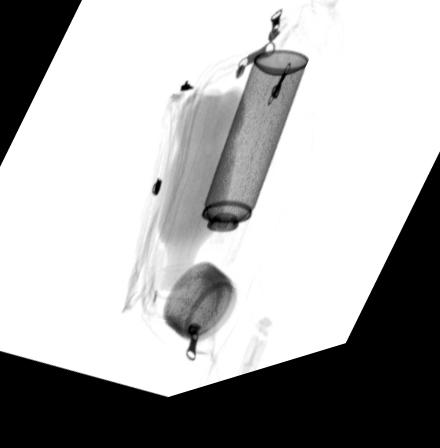Sprayer: (185, 64, 310, 286)
